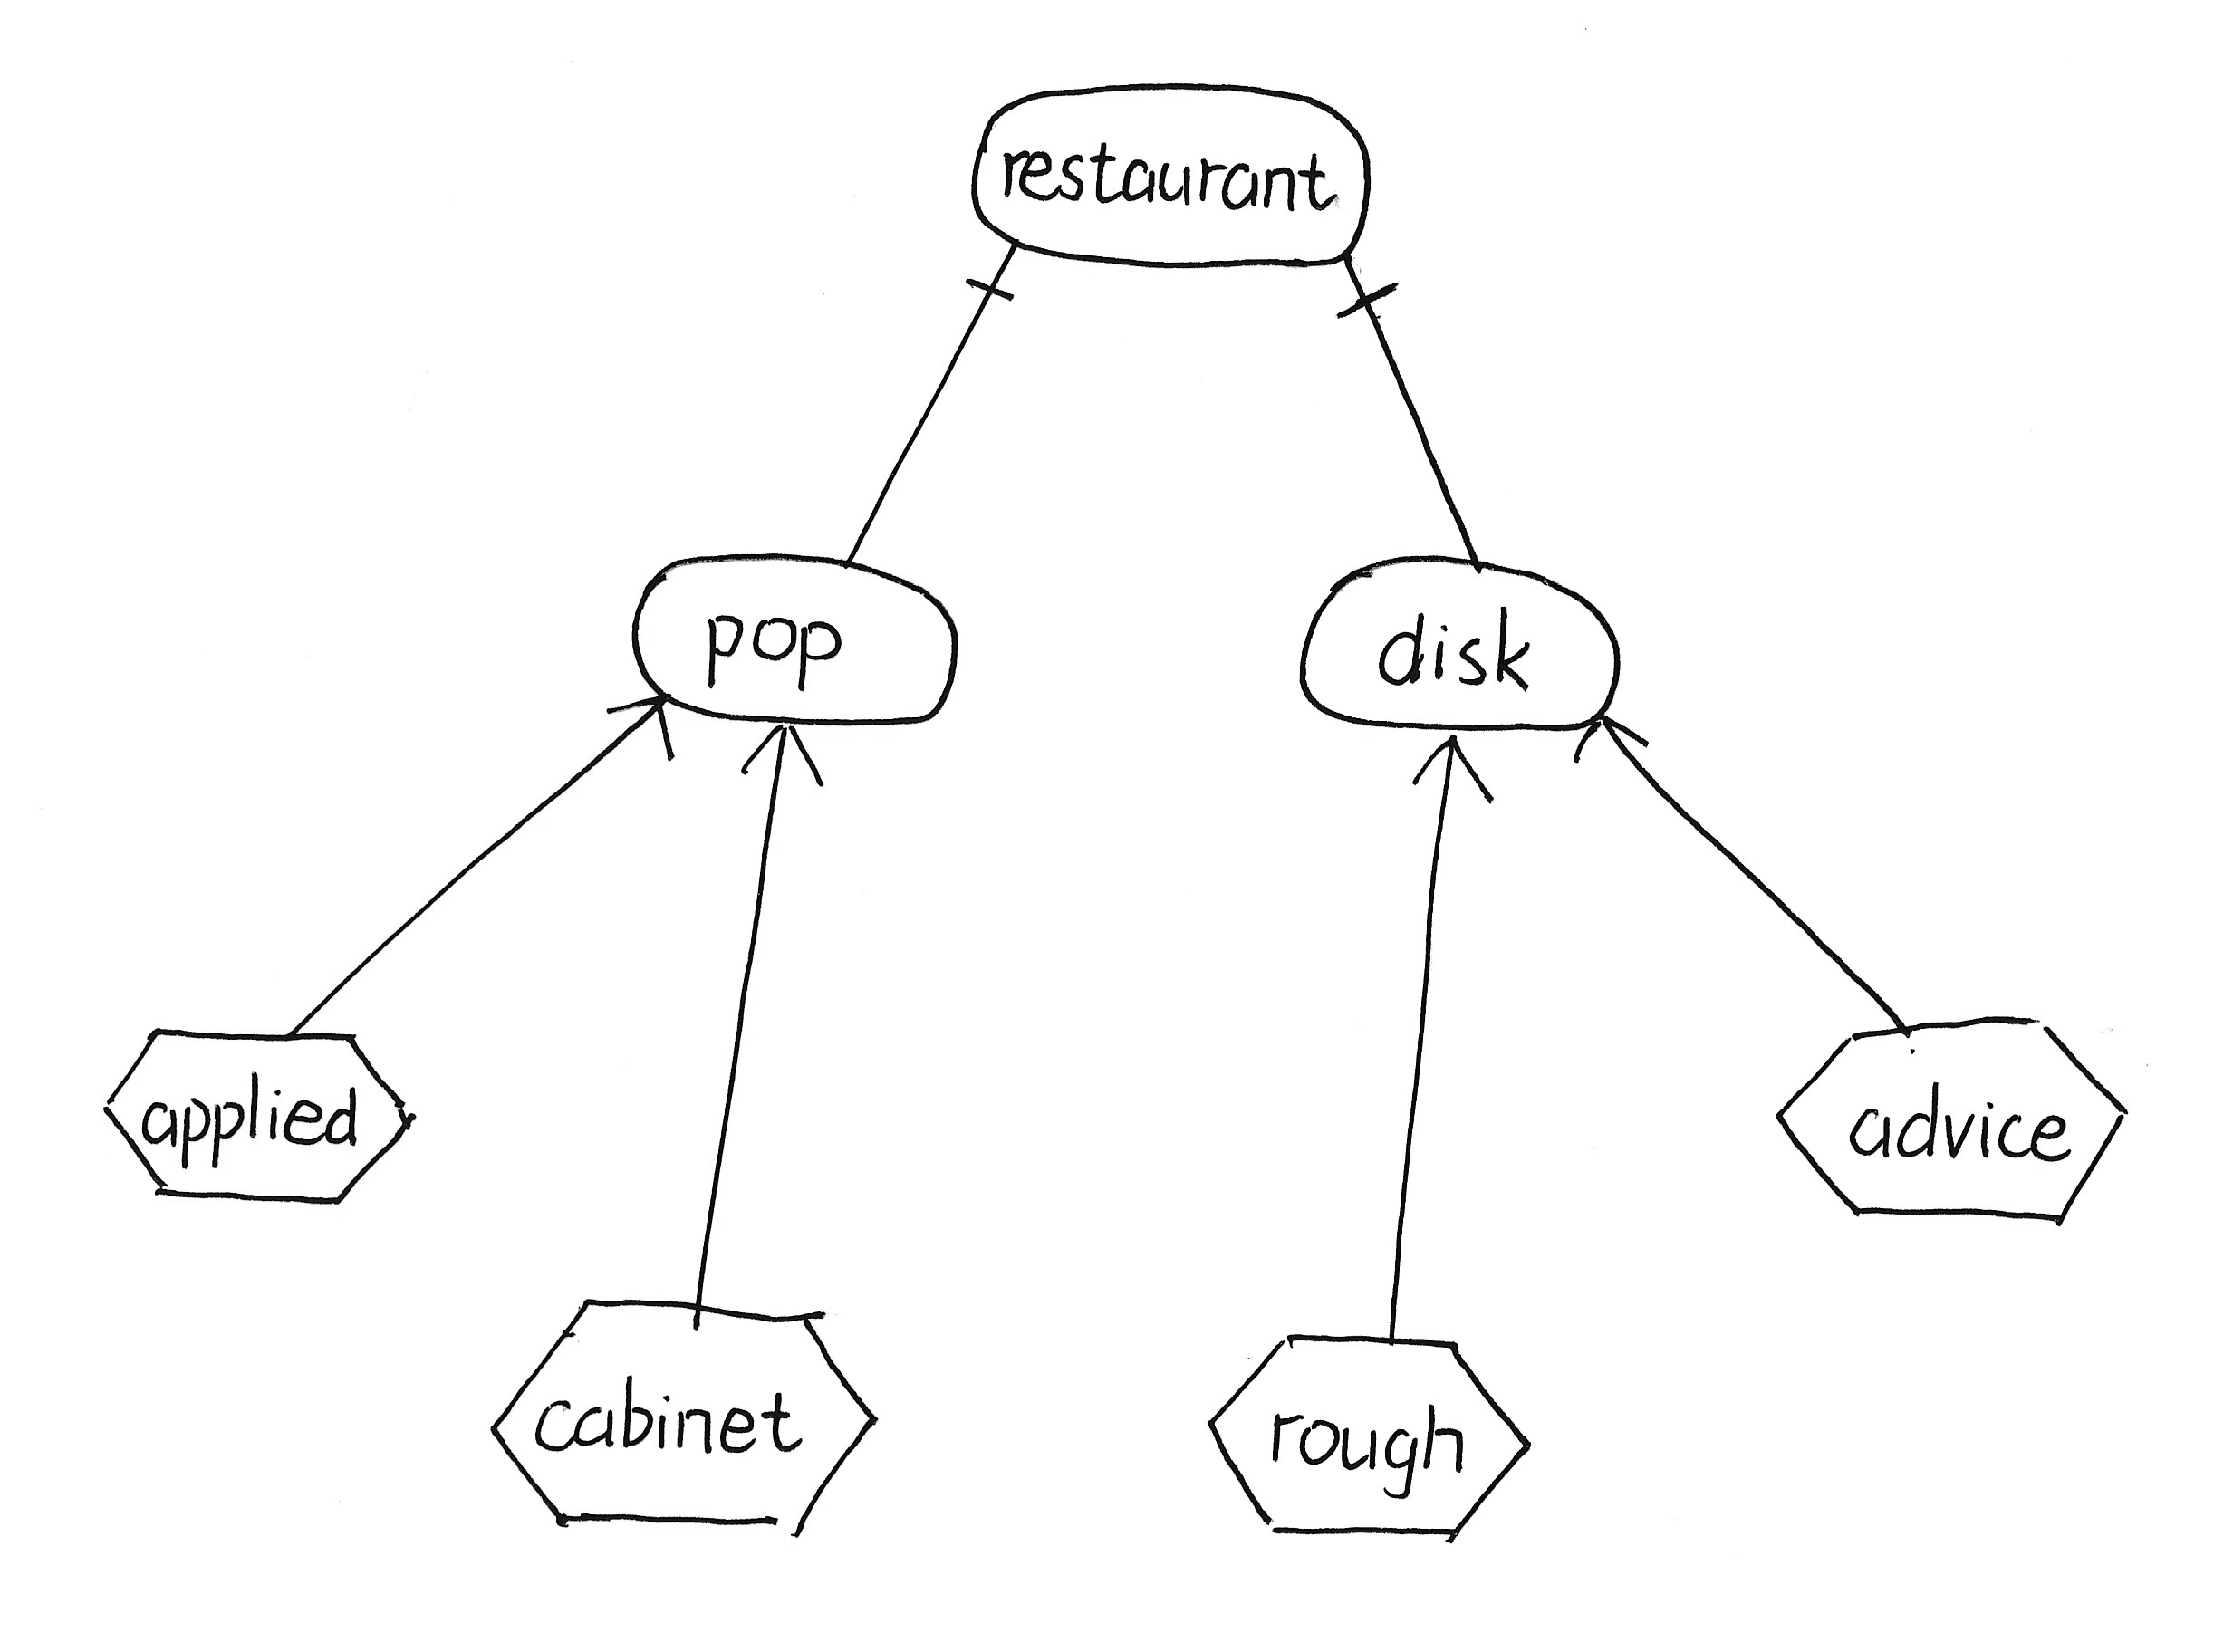and: (947, 248, 1032, 337), (1308, 265, 1412, 335)
arrow: (1404, 720, 1510, 826), (734, 711, 835, 807), (599, 682, 687, 788), (1560, 701, 1660, 783)
goal: (954, 64, 1390, 279), (612, 526, 972, 744), (1282, 538, 1634, 750)
task: (474, 1275, 894, 1548), (1759, 998, 2143, 1242), (1187, 1307, 1544, 1564), (87, 1013, 430, 1227)
